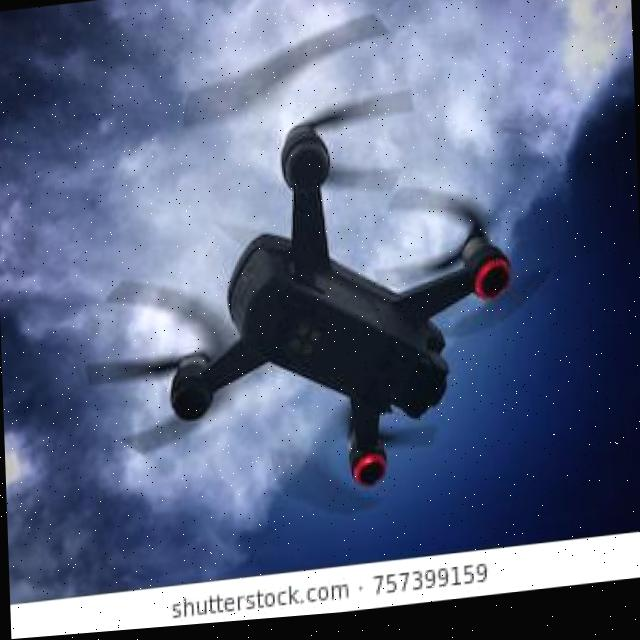drone: (14, 5, 606, 562)
